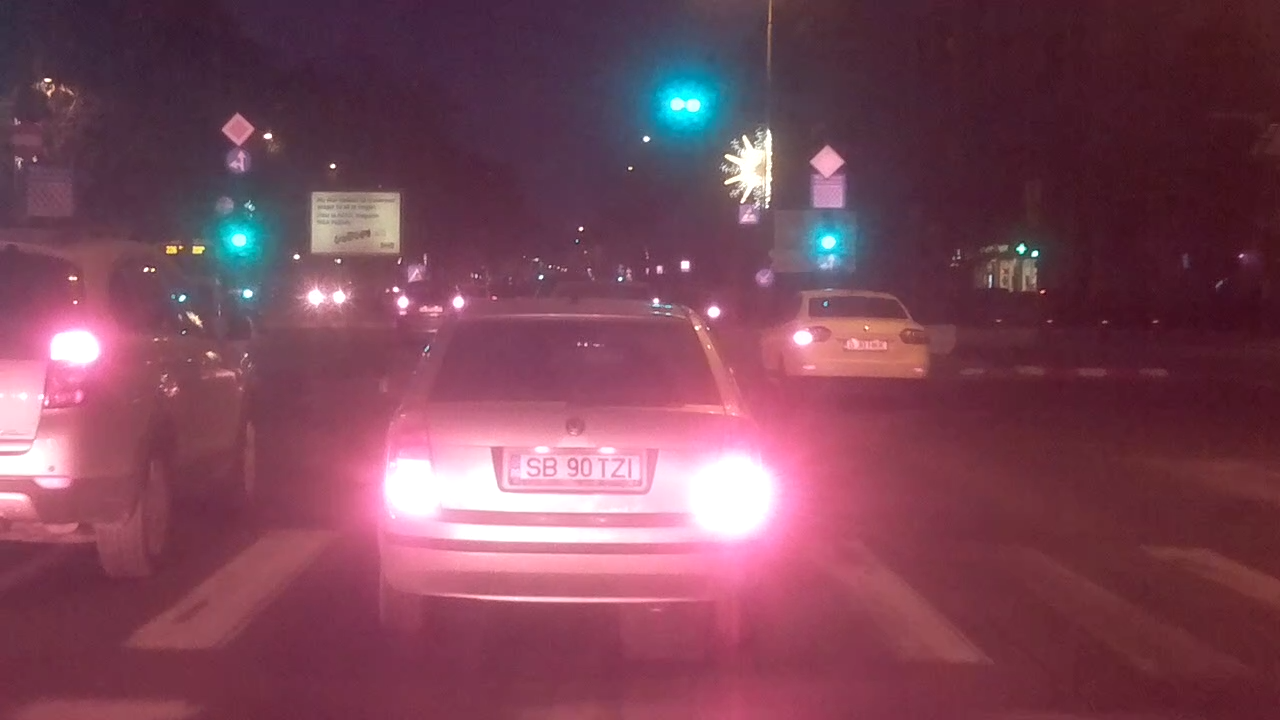license-plate: (506, 450, 644, 484)
